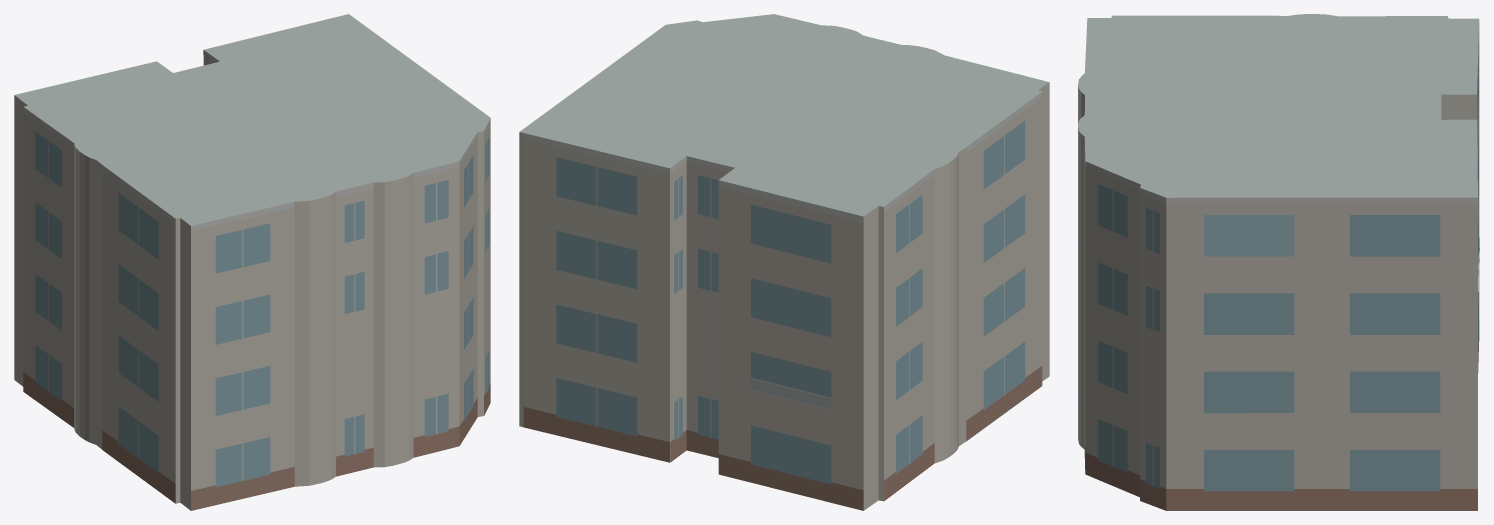
The model's file is survey-upis-32864676.glb.
3 views of the same model, side by side, from view 1: azimuth 30°, elevation 25°; view 2: azimuth 150°, elevation 25°; view 3: azimuth 270°, elevation 25° (orthographic). The views are drawn at different scales.
Visible parts, largest first — view 1: survey-upis-32864676.tmp; view 2: survey-upis-32864676.tmp; view 3: survey-upis-32864676.tmp.
Boxes of the visible parts, bbox=[...] form: survey-upis-32864676.tmp: bbox=[14, 14, 490, 510]; survey-upis-32864676.tmp: bbox=[519, 14, 1049, 510]; survey-upis-32864676.tmp: bbox=[1078, 14, 1479, 510].
Bounding box in the file's own units: 15.81 × 12.55 × 14.59.
